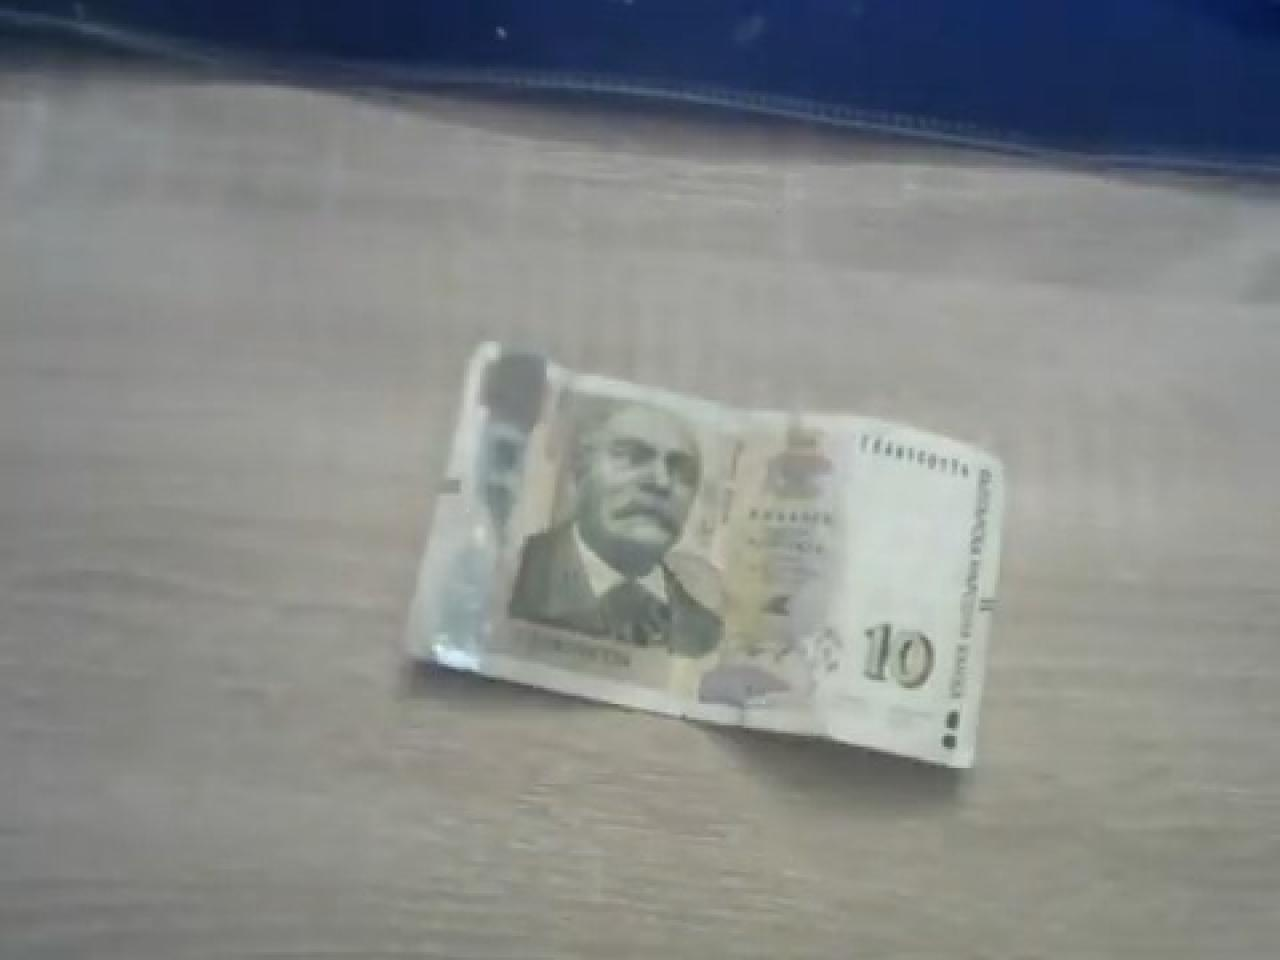10leva: (400, 336, 1005, 770)
